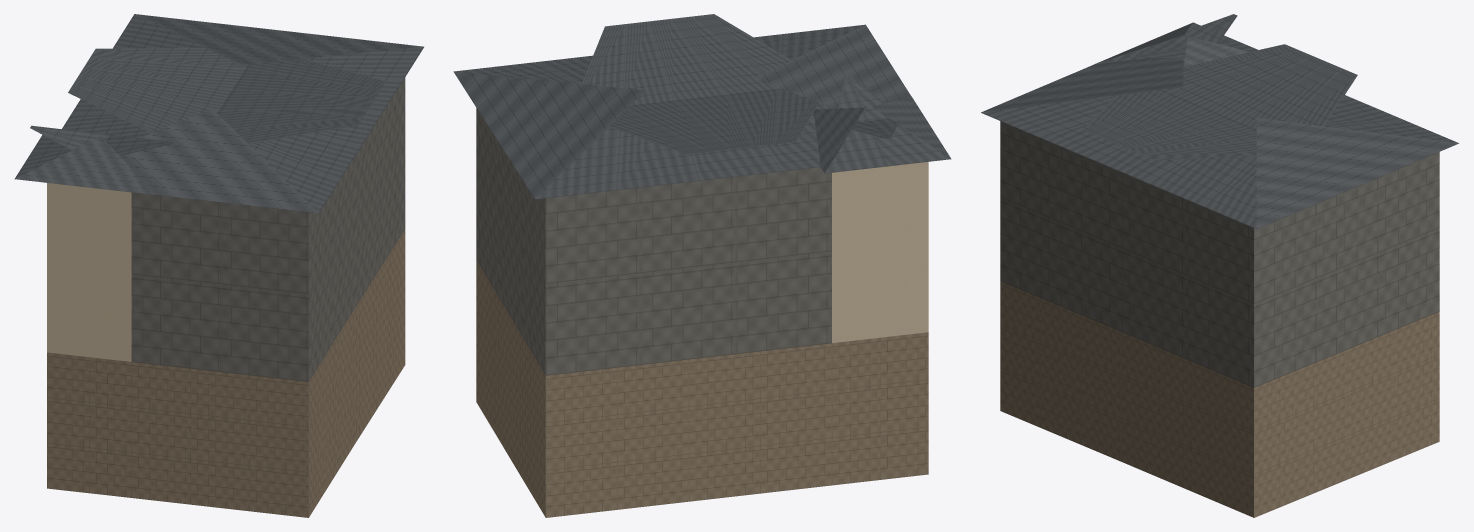
File: bld_c10_11_491.gltf
3 renders of one model, left to right at view 1: azimuth 30°, elevation 25°; view 2: azimuth 150°, elevation 25°; view 3: azimuth 270°, elevation 25°, orthographic. The views are drawn at different scales.
Parts seen in each view (by area): view 1: bld_c10_11_491; view 2: bld_c10_11_491; view 3: bld_c10_11_491.
Boxes of the visible parts, <box> form: bld_c10_11_491: <box>14,14,423,517</box>; bld_c10_11_491: <box>453,14,951,517</box>; bld_c10_11_491: <box>981,14,1458,517</box>.
Size of the model in its own units: 17.39 by 12.7 by 17.03.
Materials: 4 (4 with a texture image).
